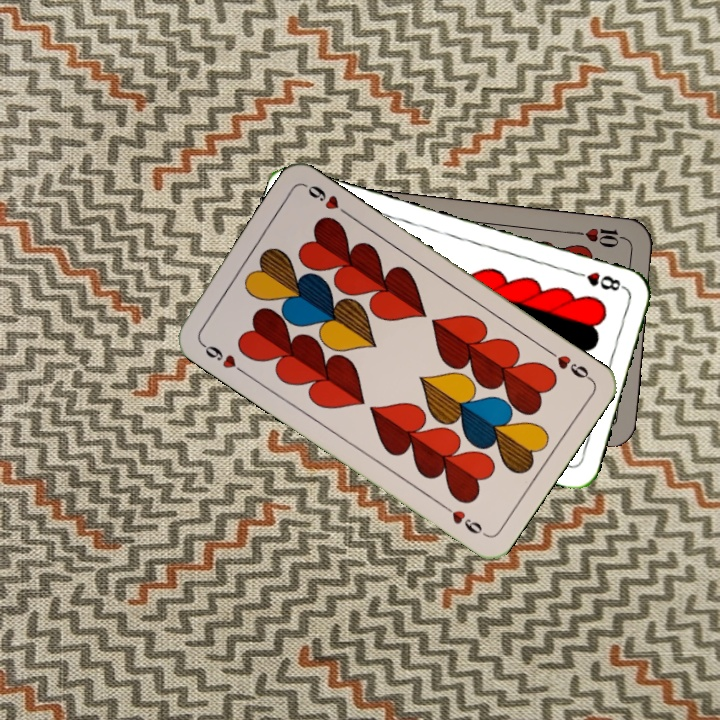H10: (571, 223, 630, 251)
H8: (569, 267, 627, 294)
H9: (542, 344, 594, 383), (196, 338, 248, 377)
